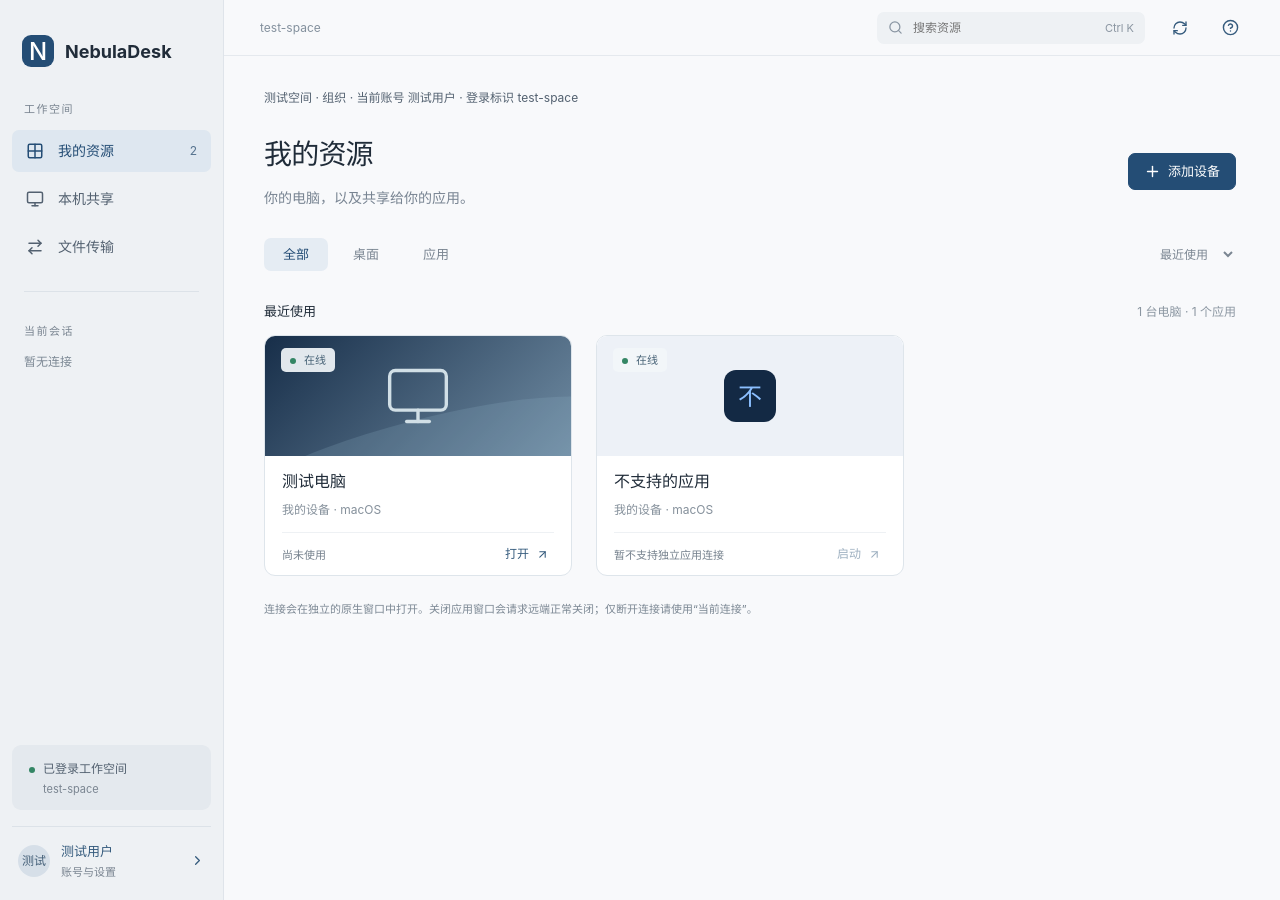
desktop presentation and actions › filters search and disables unsupported applications without connecting the desktop
Expected: the button "不支持的应用" is shown, x1=614 y1=471 x2=710 y2=492
Expected: the button "启动" is disabled, x1=832 y1=541 x2=886 y2=567
Step 1. Type "找不到" into the field labelled "搜索资源" → (1004, 28), box x1=913 y1=14 x2=1095 y2=41
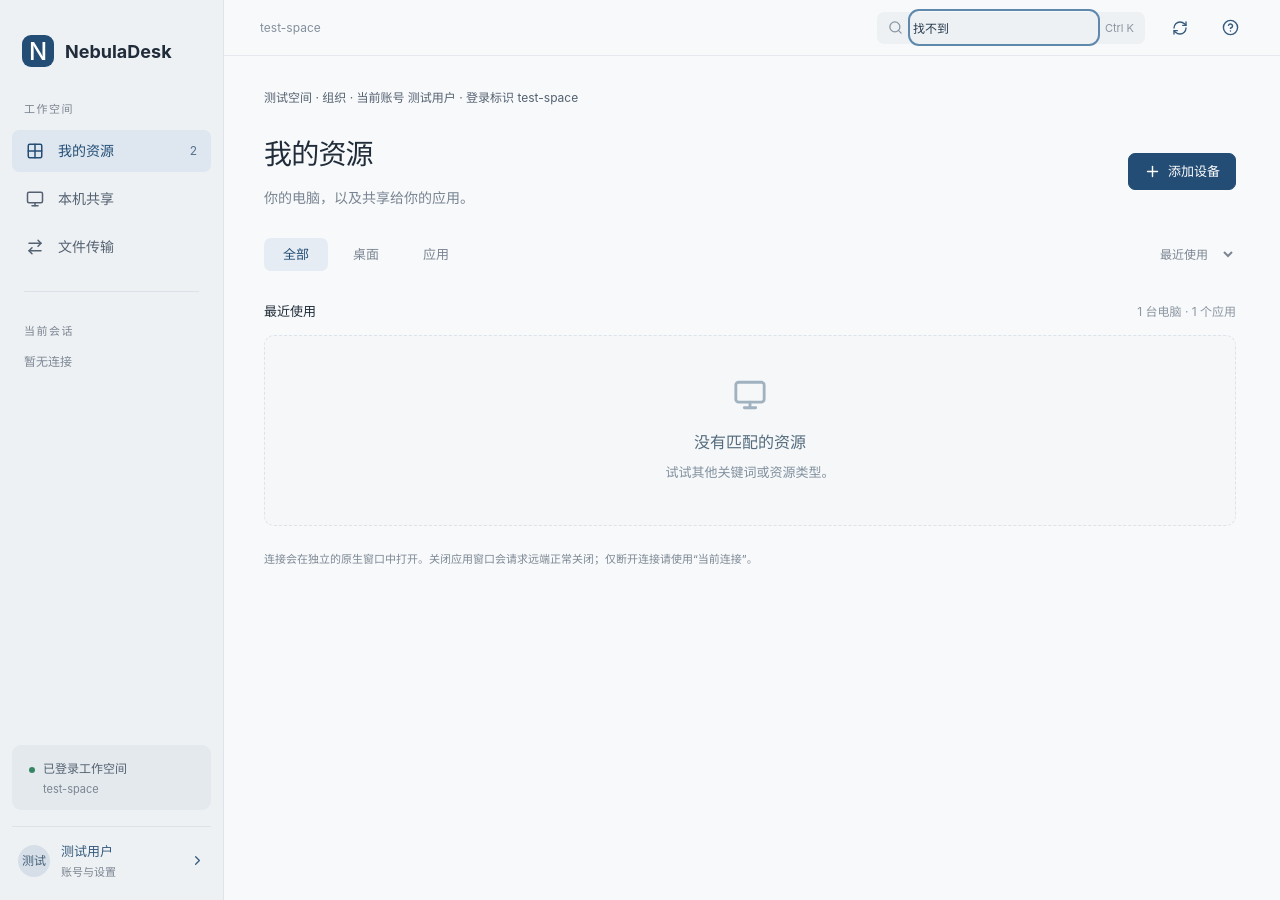
Result: the heading "没有匹配的资源" is shown at x1=694 y1=432 x2=806 y2=452
